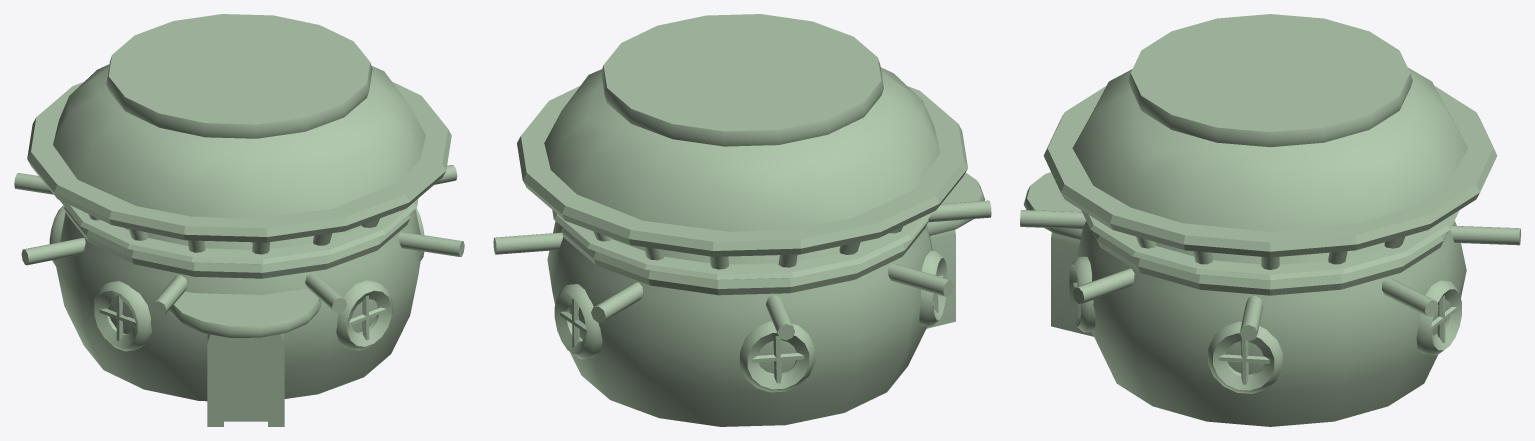
The model's file is MESH_RoundHouse02.fbx.
3 renders of one model, left to right at view 1: azimuth 30°, elevation 25°; view 2: azimuth 150°, elevation 25°; view 3: azimuth 270°, elevation 25°, orthographic. The views are drawn at different scales.
Parts seen in each view (by area): view 1: MESH_RoundHouse02; view 2: MESH_RoundHouse02; view 3: MESH_RoundHouse02.
Part boxes in pixels (x1,y1,x2,y2): MESH_RoundHouse02: (14,14,464,426); MESH_RoundHouse02: (493,14,991,426); MESH_RoundHouse02: (1020,14,1520,426).
Bounding box in the file's own units: 8.08 × 8.08 × 5.05.
